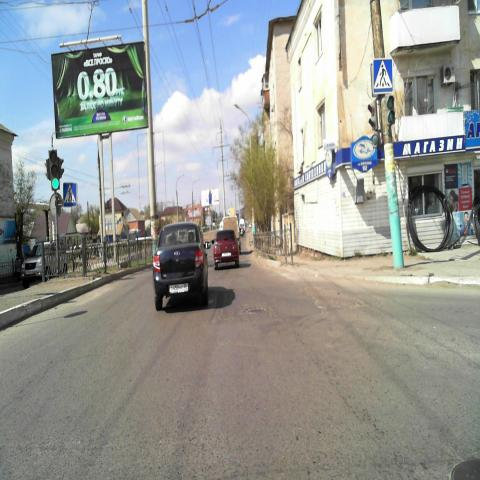5_19_1: (373, 60, 393, 94)
